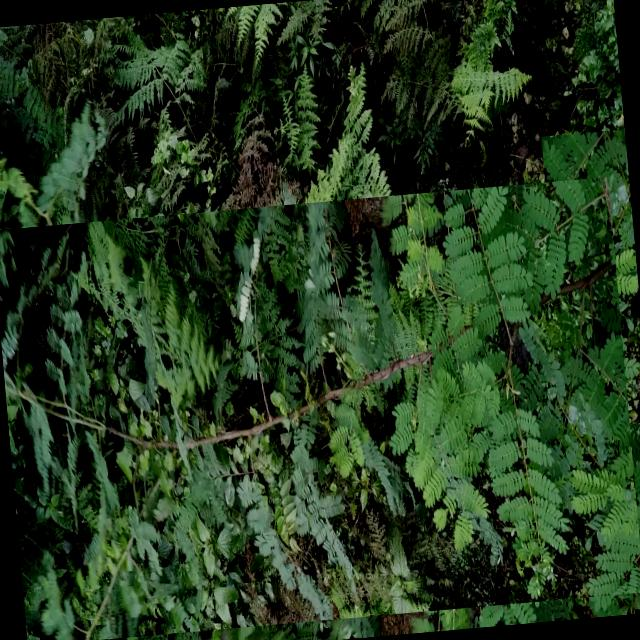Mysore-Thorn-Weed: (0, 176, 640, 640), (541, 129, 640, 429)
